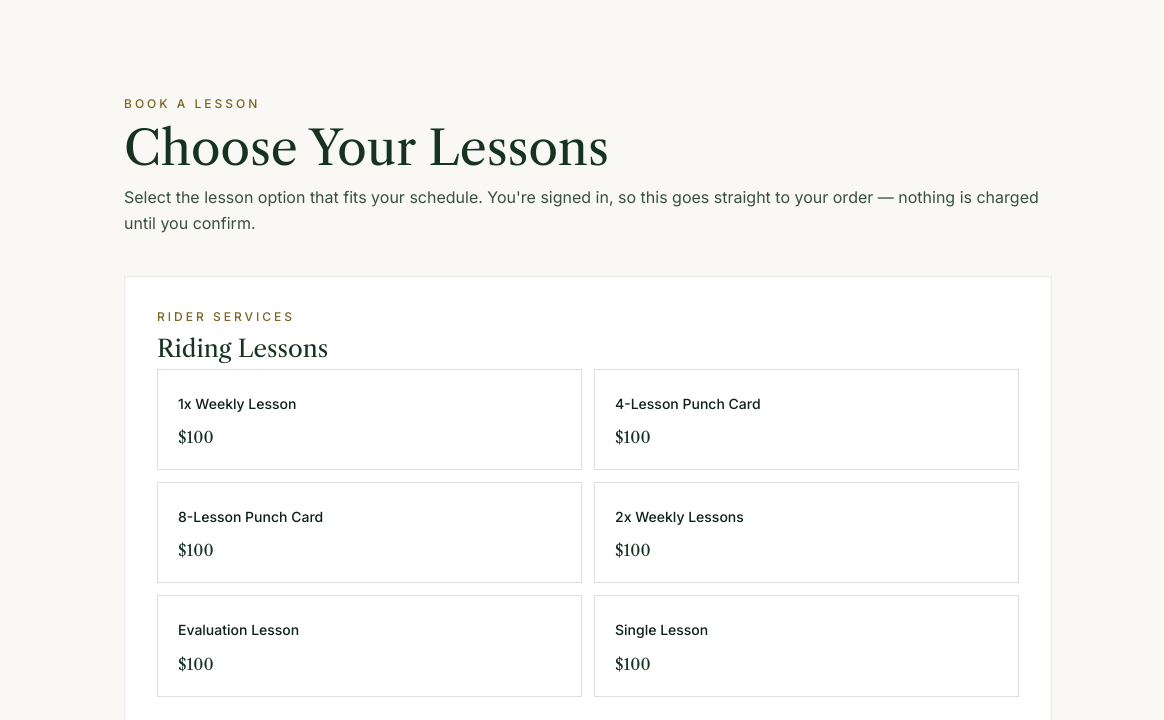
Scenario: SESSIONBOOK — test 4: one purchase spine, not a second one › Continue, signed in, still routes through the existing /checkout path (no new purchase path added)
Click the radio button "1x Weekly Lesson". click: (237, 404)
box: [157, 369, 582, 470]
(page scrolled)
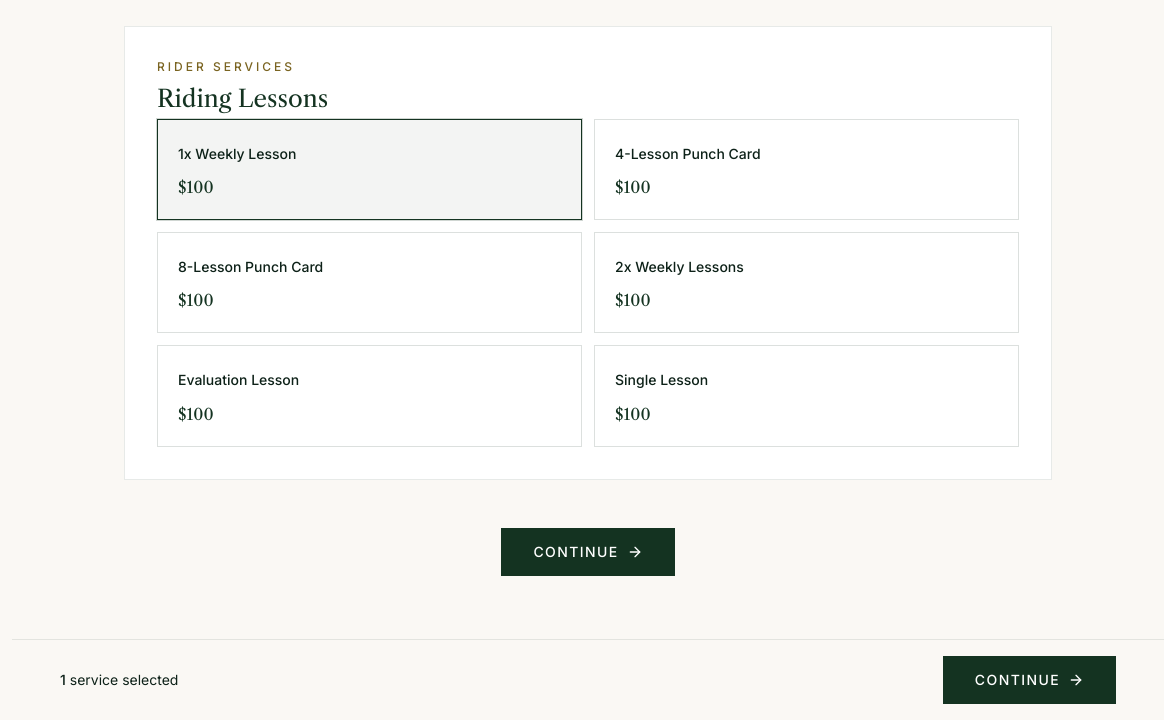
Click the 1st button "Continue". click: (588, 552)
box: [501, 528, 674, 576]
(page scrolled)
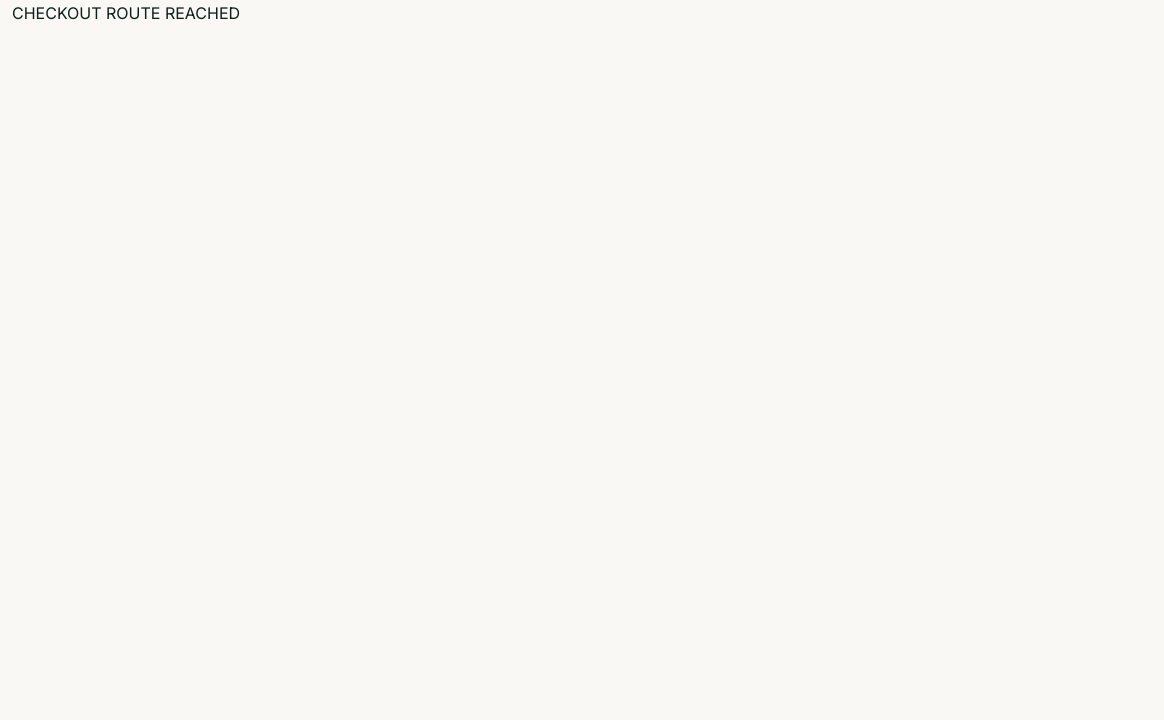
Now the text "CHECKOUT ROUTE REACHED" is shown, box [12, 3, 240, 23]
